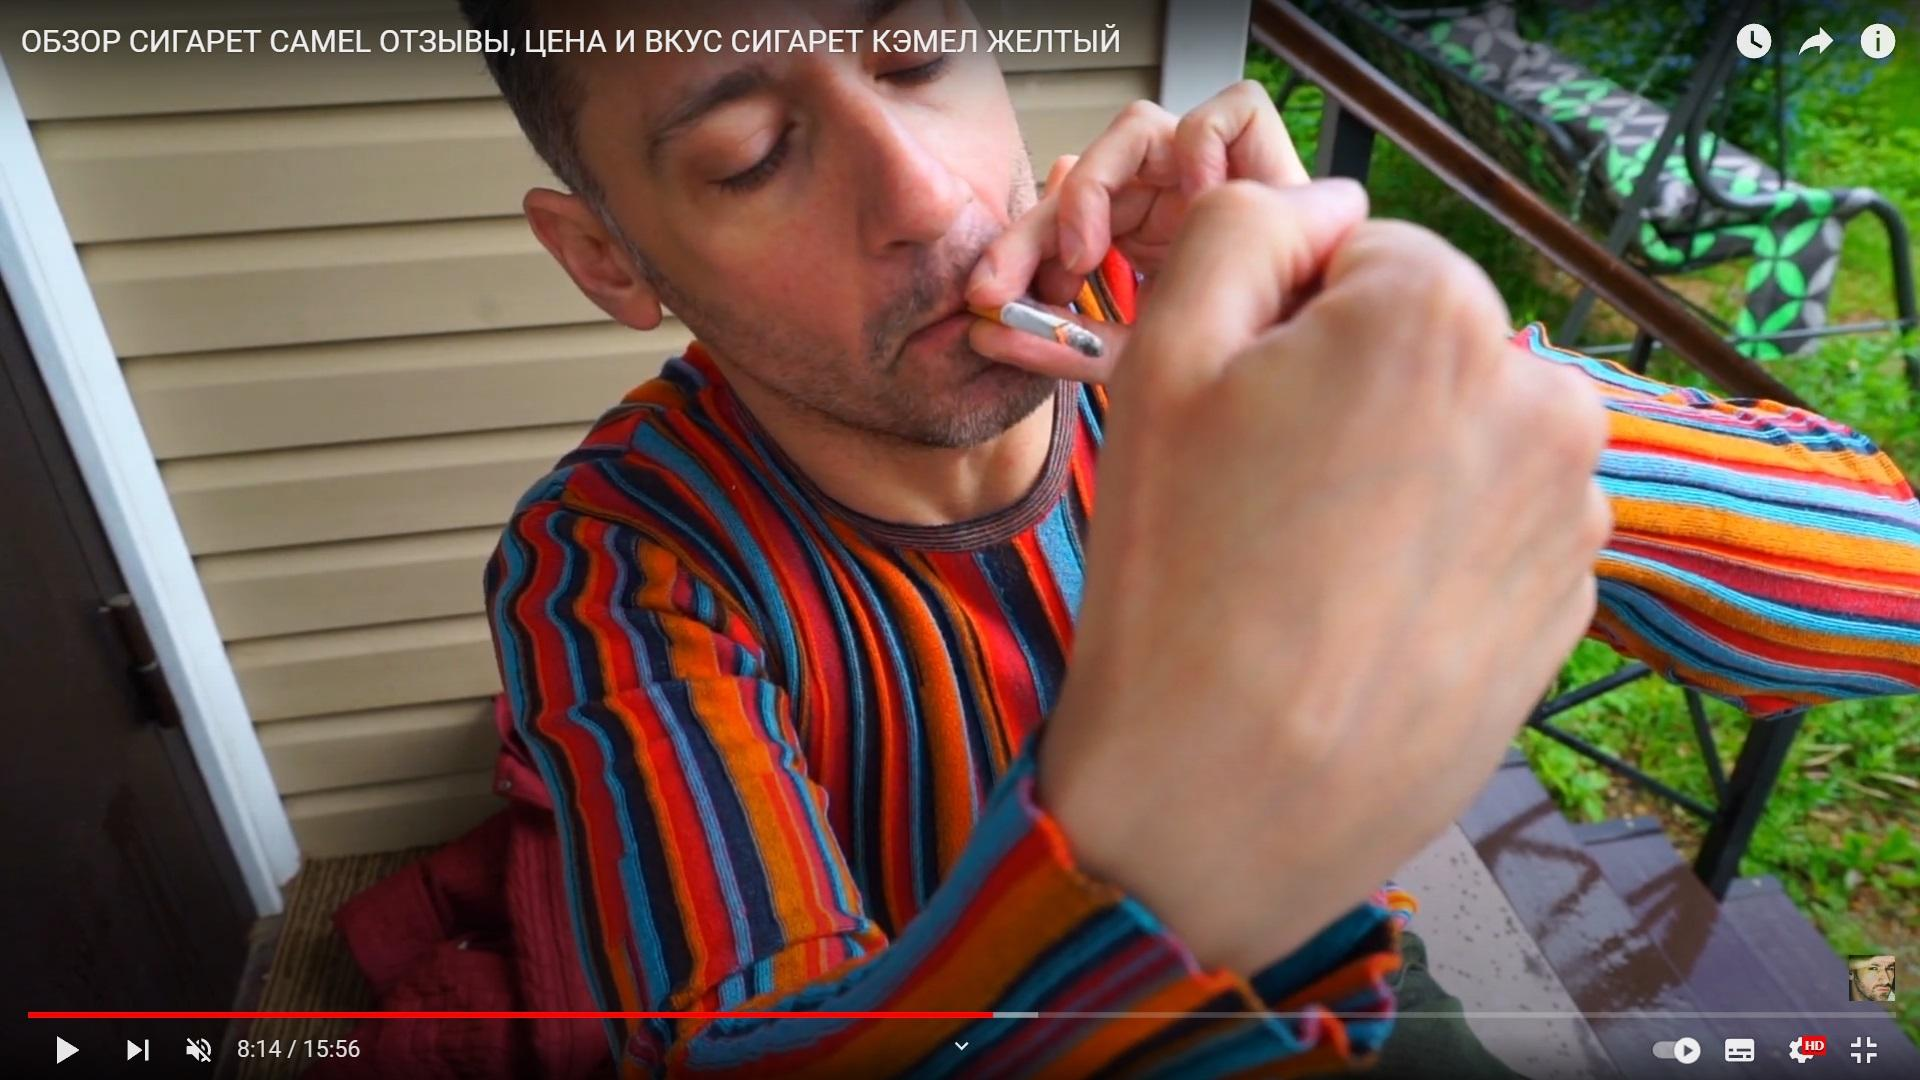cigarette: (967, 302, 1104, 356)
